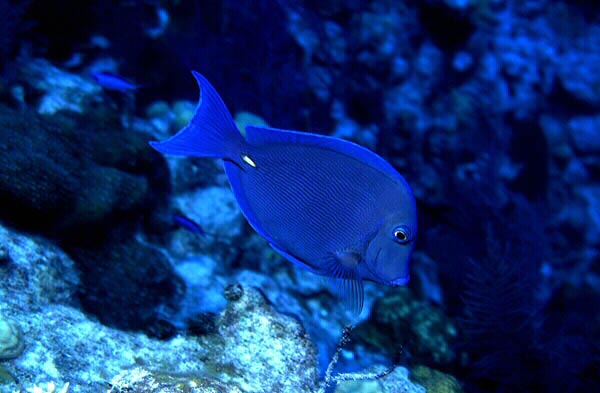Acanthurus_coeruleus: (146, 67, 421, 314)
